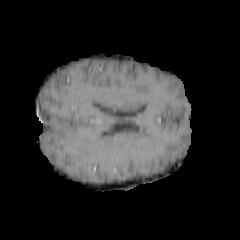glioma: (76, 132, 155, 157)
